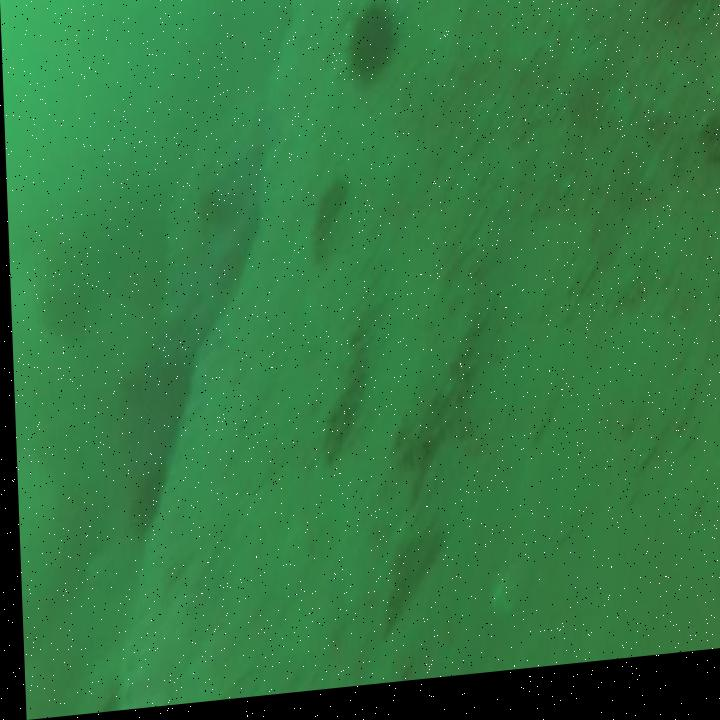echinus: (349, 14, 395, 87)
holothurian: (315, 339, 367, 464)
